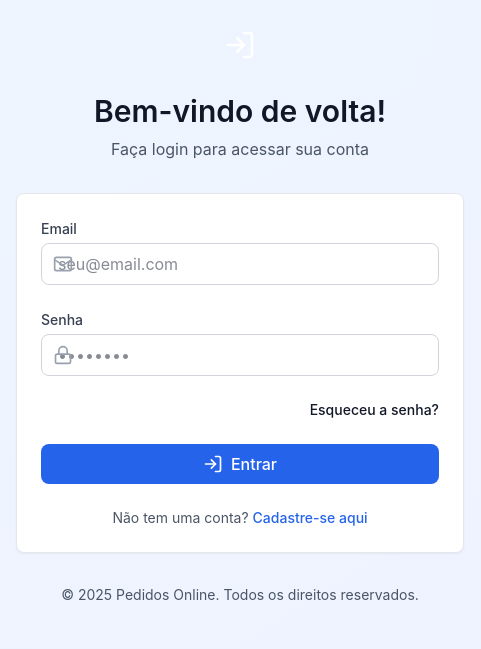
it: Login Component › Validação de formulário › deve mostrar erro para email vazio
Click the button "Entrar". click: (240, 464)
box: [41,444,439,484]
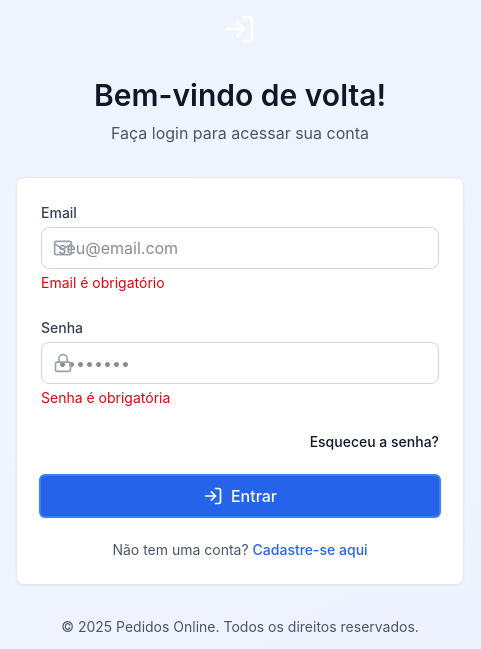
Check: the text "Email é obrigatório" is shown, box [41,274,165,291]
